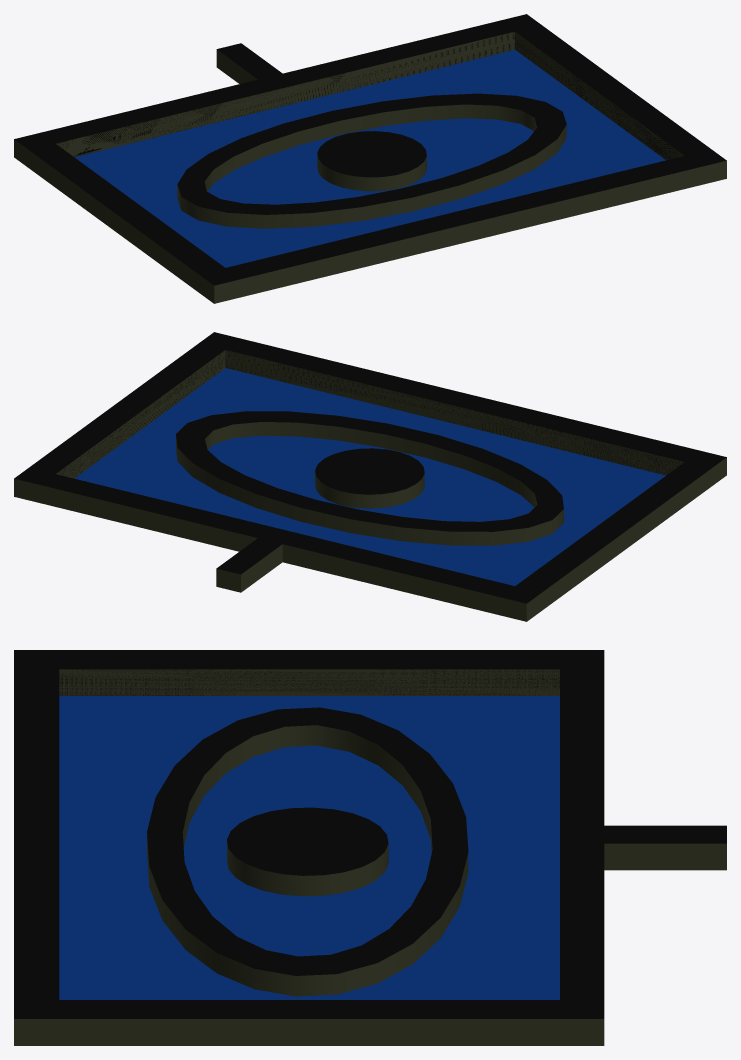
The model's file is ORBAT_ORBAT_I_EYE.dae.
The picture shows the model from 3 angles, top to bottom: view 1: azimuth 30°, elevation 25°; view 2: azimuth 150°, elevation 25°; view 3: azimuth 270°, elevation 25°; orthographic projection. The views are drawn at different scales.
Visible parts, largest first — view 1: SketchUp (×10); view 2: SketchUp (×10); view 3: SketchUp (×10).
Part boxes in pixels (left/top/right/bottom): SketchUp (×10): left=14, top=14, right=726, bottom=303; SketchUp (×10): left=14, top=332, right=726, bottom=621; SketchUp (×10): left=14, top=650, right=726, bottom=1045.
Bounding box in the file's own units: 44.14 × 36.05 × 1.5.
